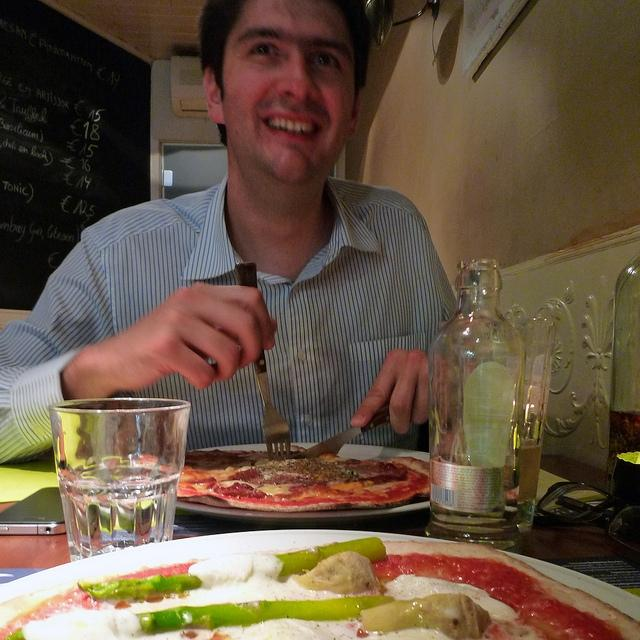asparagus: (78, 536, 388, 602), (136, 595, 396, 635)
